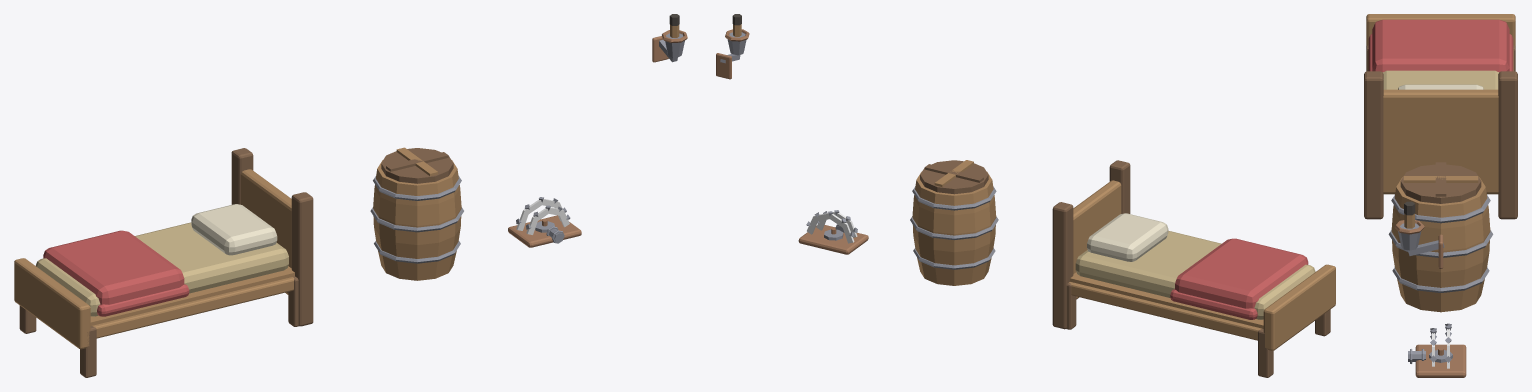
Rendered from Assets.glb.
3 views of the same model, side by side, from view 1: azimuth 30°, elevation 25°; view 2: azimuth 150°, elevation 25°; view 3: azimuth 270°, elevation 25° (orthographic). The views are drawn at different scales.
Visible parts, largest first — view 1: Barrel_Body, Bed_Blanket, Bed_Mattress, Bed_Footboard, Bed_Pillow, Bed_Rail_L, Bed_Post_L, Bed_Headboard, Bed_Base, Barrel_Lid, Bed_Blanket_Drape, BearTrap_Base (+2 smaller); view 2: Barrel_Body, Bed_Blanket, Bed_Mattress, Bed_Footboard, Bed_Pillow, Bed_Rail_R, Bed_Post_R, Bed_Headboard, Bed_Base, Barrel_Lid, BearTrap_Base, Bed_Blanket_Drape (+3 smaller); view 3: Bed_Headboard, Barrel_Body, Bed_Blanket, Bed_Post_L, Bed_Post_R, Bed_Mattress, Barrel_Lid, BearTrap_Base, Bed_Footboard, Barrel_Band_Bottom, Barrel_Band_Top, Barrel_Band_Mid (+13 smaller).
Boxes of the visible parts, bbox=[...] form: Barrel_Body: bbox=[373, 160, 461, 280]; Bed_Blanket: bbox=[43, 230, 184, 304]; Bed_Mattress: bbox=[35, 222, 288, 316]; Bed_Footboard: bbox=[14, 258, 90, 349]; Bed_Pillow: bbox=[191, 204, 277, 255]; Bed_Rail_L: bbox=[92, 277, 295, 338]; Bed_Post_L: bbox=[291, 192, 313, 326]; Bed_Headboard: bbox=[240, 169, 291, 294]; Bed_Base: bbox=[90, 266, 294, 325]; Barrel_Lid: bbox=[381, 148, 453, 183]; Bed_Blanket_Drape: bbox=[97, 284, 189, 316]; BearTrap_Base: bbox=[508, 215, 581, 247]; Barrel_Body: bbox=[912, 171, 996, 285]; Bed_Blanket: bbox=[1175, 238, 1308, 308]; Bed_Mattress: bbox=[1075, 230, 1315, 319]; Bed_Footboard: bbox=[1263, 264, 1335, 350]; Bed_Pillow: bbox=[1087, 213, 1168, 261]; Bed_Rail_R: bbox=[1069, 282, 1261, 340]; Bed_Post_R: bbox=[1052, 202, 1073, 329]; Bed_Headboard: bbox=[1073, 180, 1121, 299]; Bed_Base: bbox=[1070, 272, 1263, 328]; Barrel_Lid: bbox=[920, 160, 988, 194]; BearTrap_Base: bbox=[798, 225, 868, 254]; Bed_Blanket_Drape: bbox=[1170, 289, 1257, 319]; Bed_Headboard: bbox=[1383, 89, 1498, 194]; Barrel_Body: bbox=[1391, 177, 1490, 312]; Bed_Blanket: bbox=[1372, 19, 1509, 71]; Bed_Post_L: bbox=[1364, 71, 1383, 219]; Bed_Post_R: bbox=[1498, 71, 1517, 219]; Bed_Mattress: bbox=[1383, 70, 1498, 89]; Barrel_Lid: bbox=[1400, 164, 1481, 203]; BearTrap_Base: bbox=[1415, 344, 1466, 377]; Bed_Footboard: bbox=[1366, 14, 1515, 45]; Barrel_Band_Bottom: bbox=[1392, 267, 1489, 292]; Barrel_Band_Top: bbox=[1391, 195, 1490, 223]; Barrel_Band_Mid: bbox=[1388, 230, 1493, 257].
Size of the model in its own units: 5.4 by 1.65 by 1.03.
